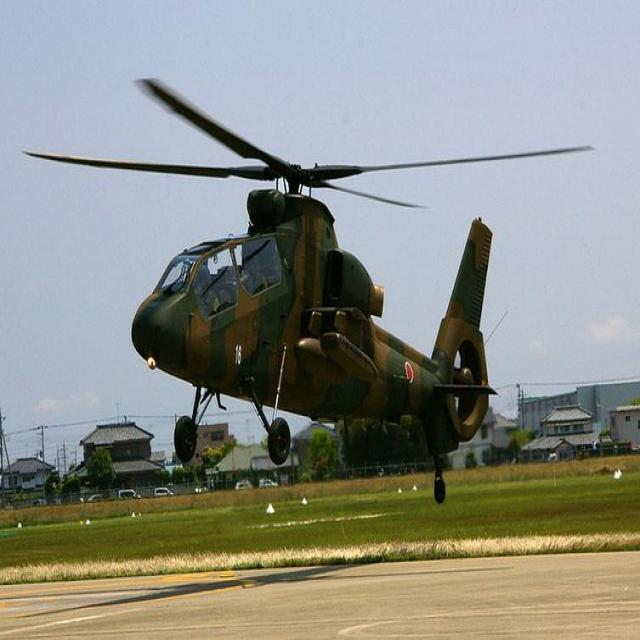MIL_HELO: (22, 76, 590, 504)
